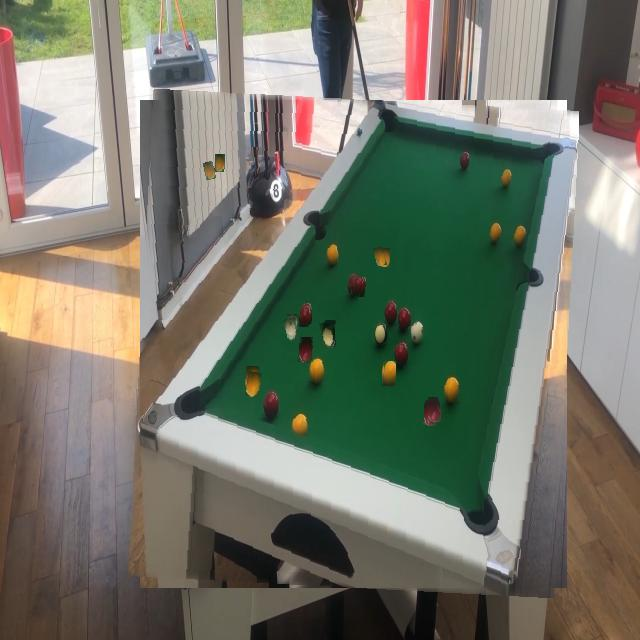Ball: (246, 372, 262, 397), (320, 322, 335, 348), (426, 397, 441, 422), (395, 416, 411, 438), (298, 340, 313, 363), (284, 318, 299, 340), (383, 361, 396, 385), (312, 300, 325, 322), (187, 217, 200, 238), (298, 306, 311, 327), (212, 216, 224, 237), (351, 277, 363, 297), (374, 247, 386, 266), (204, 162, 216, 180), (248, 147, 257, 165)
Billiard table: (134, 95, 573, 593)
